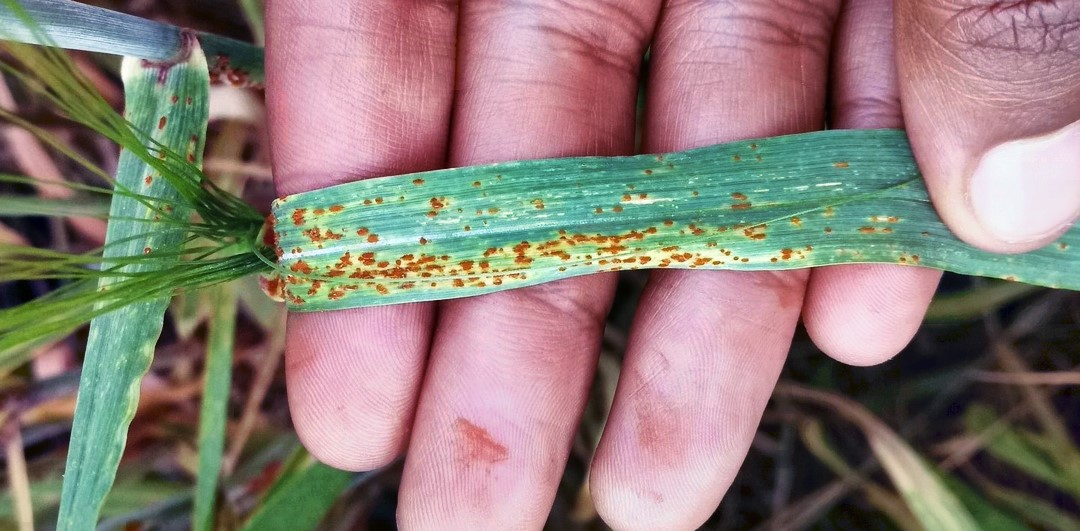Leaf Rust: (269, 150, 872, 310)
